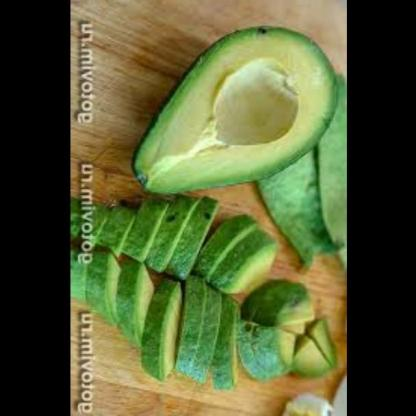avocado: (78, 202, 334, 392), (116, 23, 347, 200)
